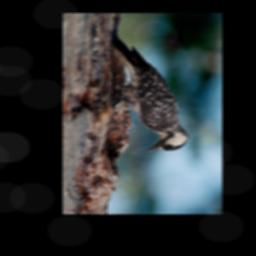Woodpecker: (105, 27, 198, 155)
